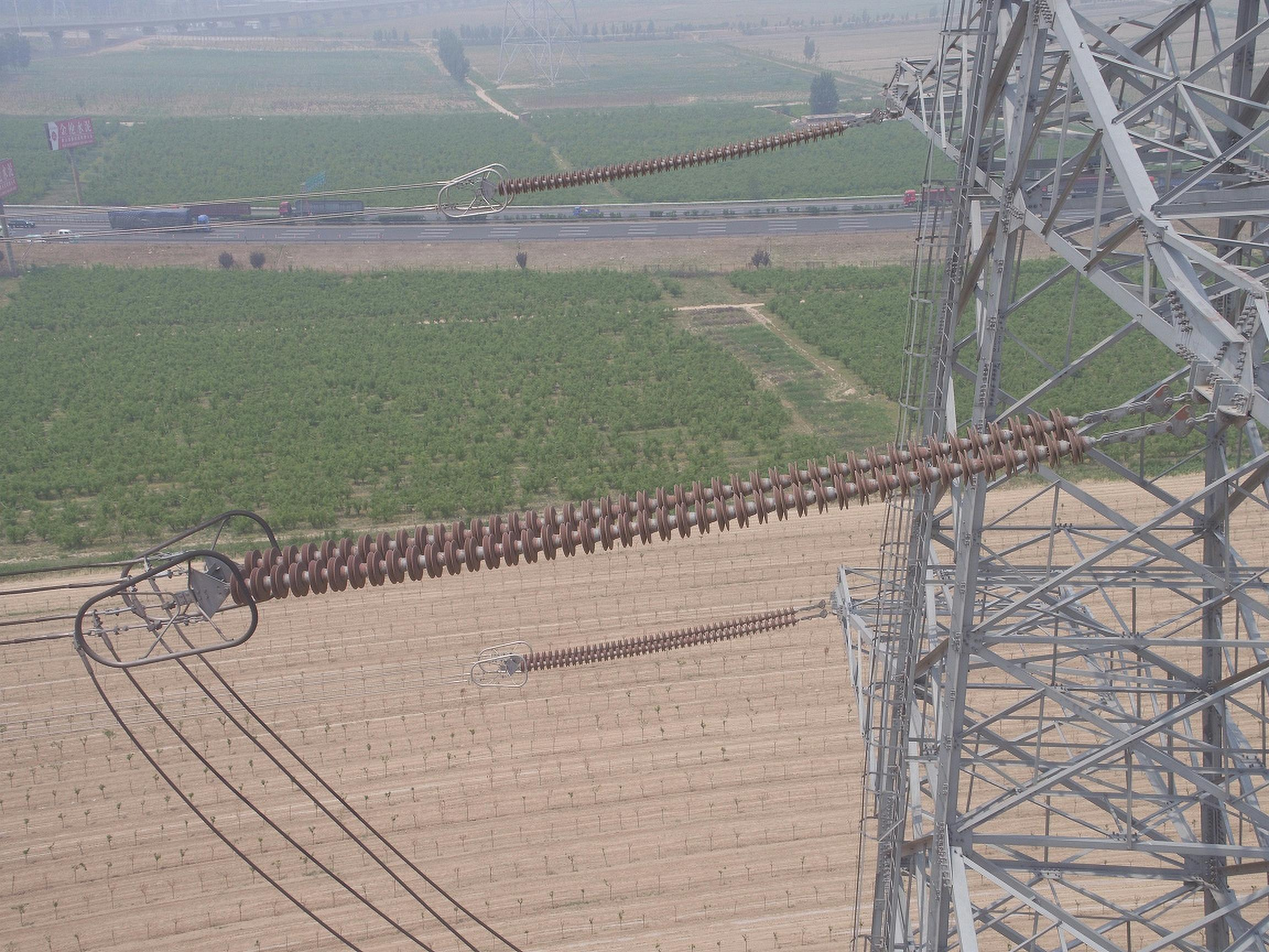insulator: (225, 402, 1088, 610), (495, 116, 846, 198), (518, 604, 798, 674)
